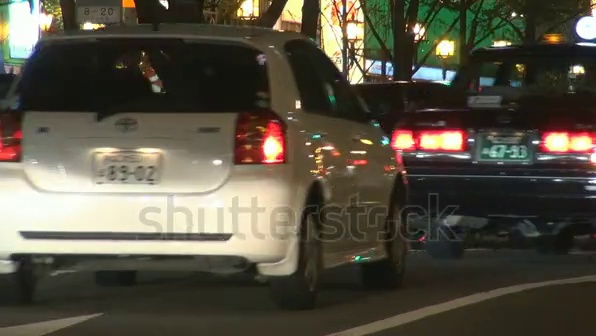licenseplate: (97, 151, 169, 184), (479, 126, 535, 159)
